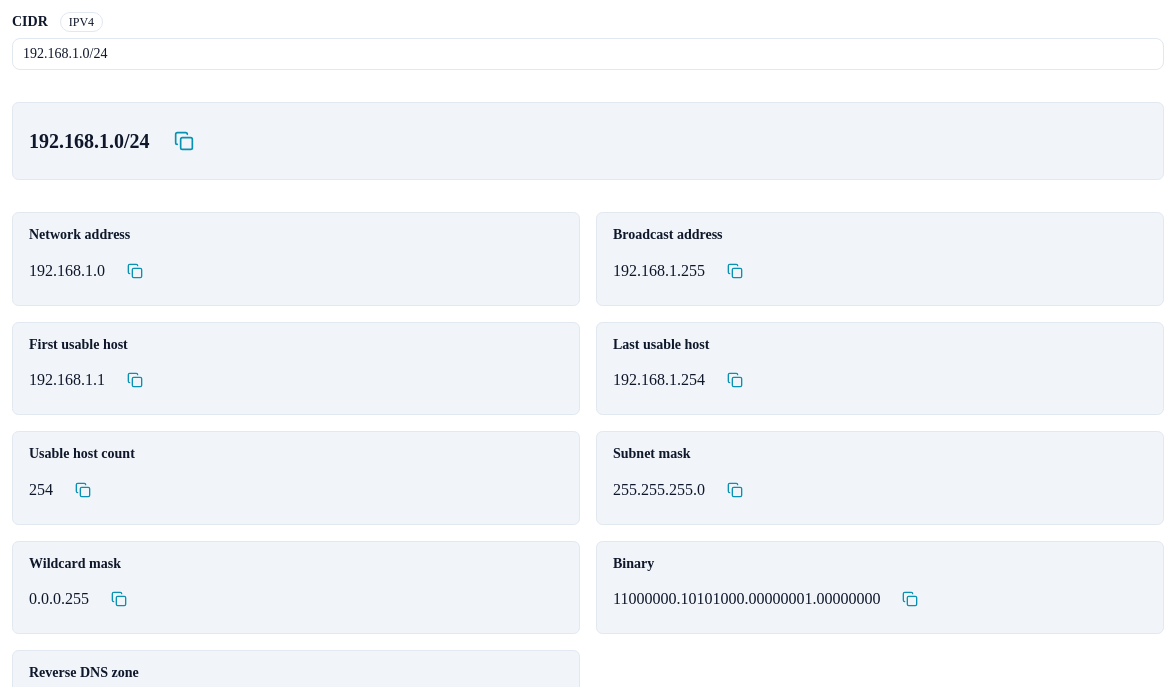
Test: SubnetTool › shows the inline validation message and keeps the last valid grid visible on invalid typed input (SUBNET-03)
Replace the text in the field with test id "subnet-cidr-input" with "not-a-cidr" at (588, 54), box [12,38,1164,70]
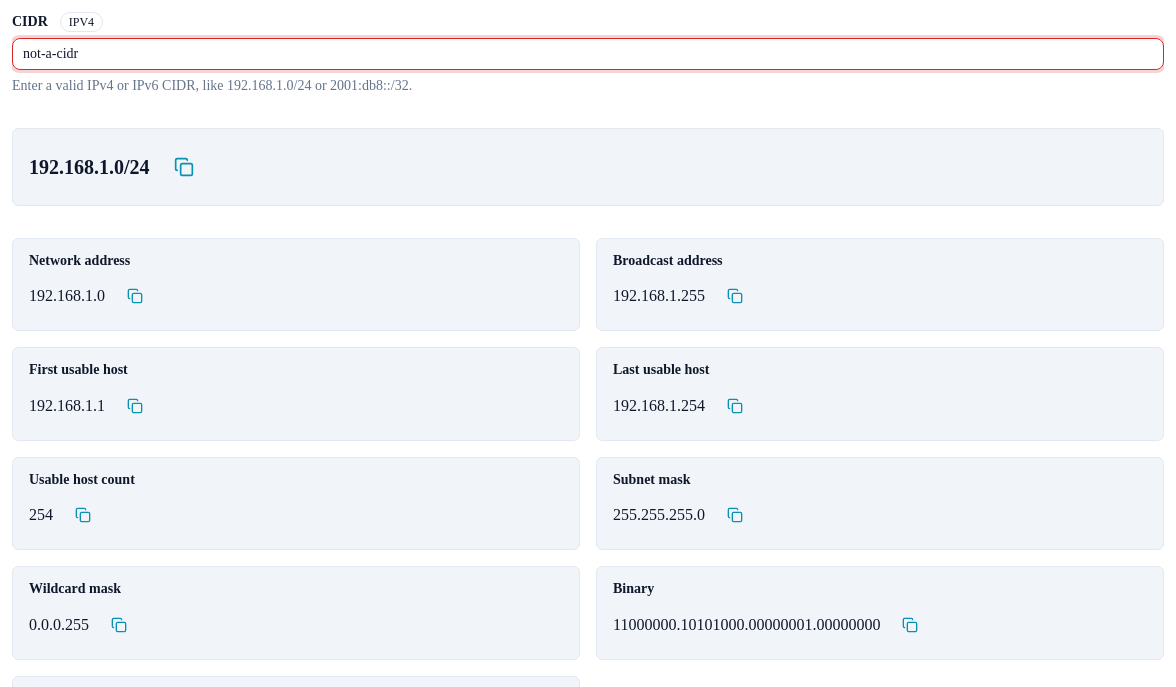
Expected: the text with test id "subnet-field-network-value" reads "192.168.1.0", [29,287,105,304]
Result: the text with test id "subnet-validation-note" is shown at [12,78,412,93]
